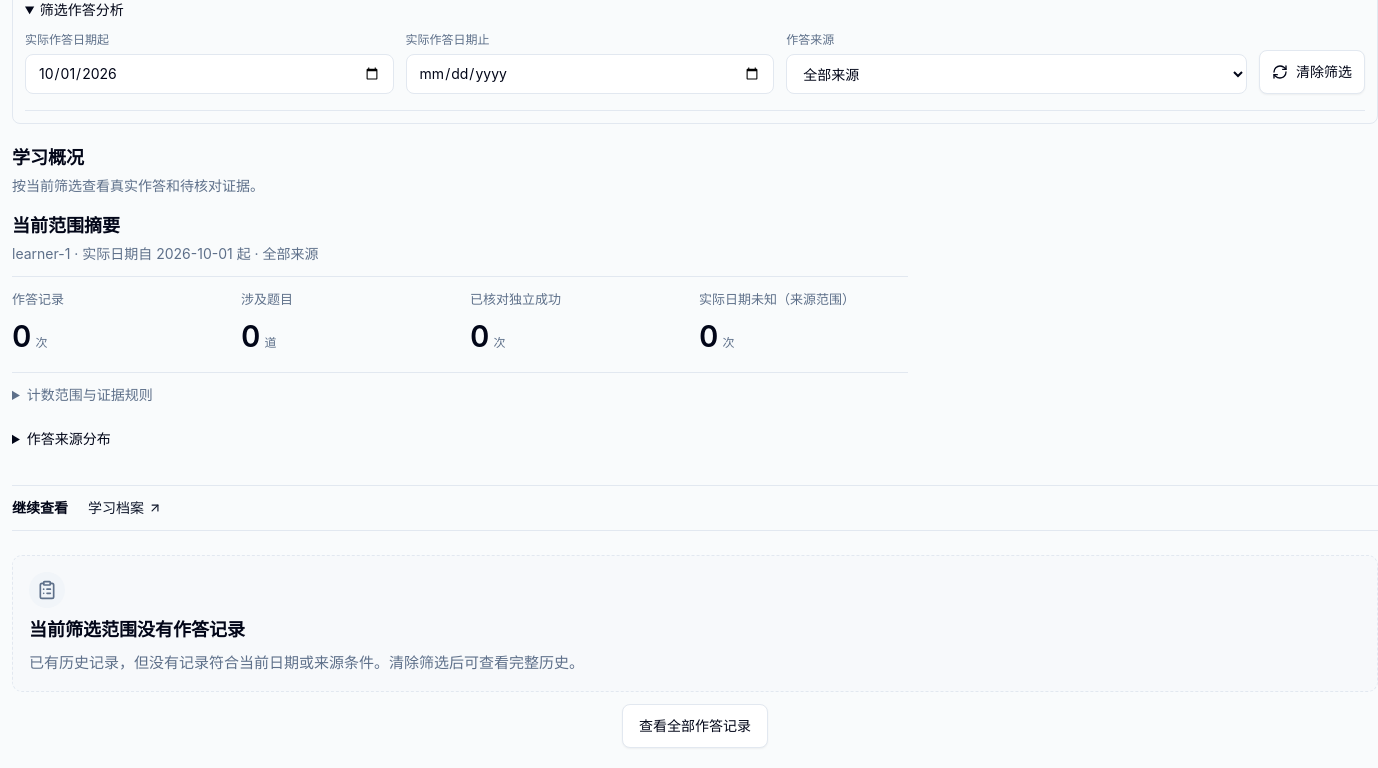
Test: EvidenceWorkspace › separates an empty history from a filtered zero result and clears conditions
(page scrolled)
Expected: the heading "当前筛选范围没有作答记录" is shown, [29,616,245,643]
Click the button "查看全部作答记录" at coordinates (695, 726), box [622,704,768,748]
(page scrolled)
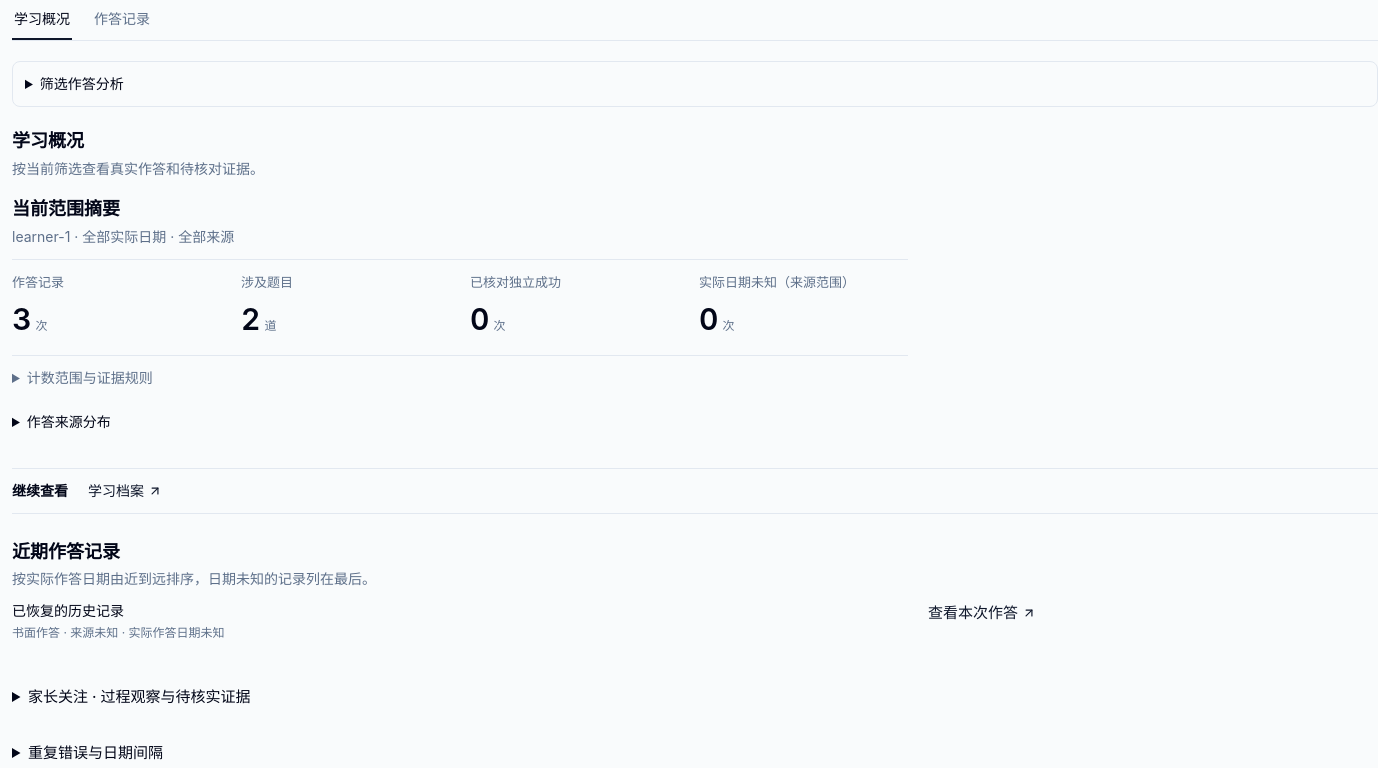
Expected: the text "已恢复的历史记录" is shown, [12,602,124,619]
Expected: the heading "当前筛选范围没有作答记录" is gone
